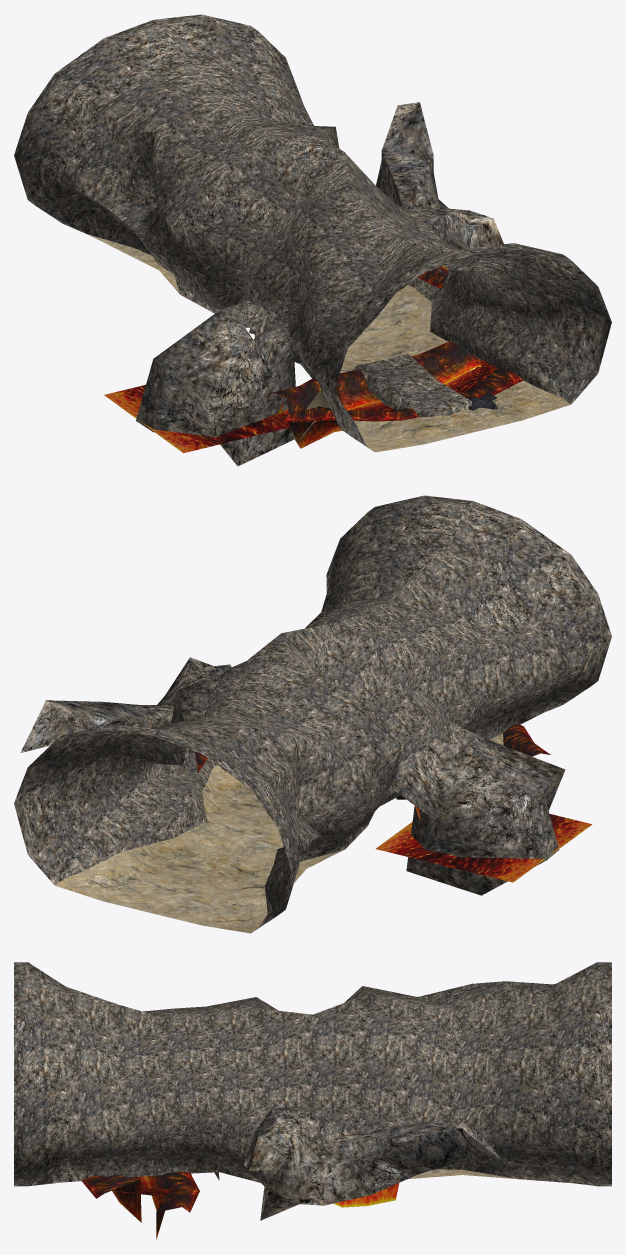
File: pir_m_are_cav_hallWide200_lava.fbx
3 renders of one model, top to bottom at view 1: azimuth 30°, elevation 25°; view 2: azimuth 150°, elevation 25°; view 3: azimuth 270°, elevation 25°, orthographic. The views are drawn at different scales.
Visible parts, largest first — view 1: hallWide200_wall, hallWide200_floor, rock_bridge, lava2, lava5, lava_hot_0, lava_hot_1; view 2: hallWide200_wall, hallWide200_floor, lava_hot_0, lava5; view 3: hallWide200_wall, lava2, lava5, lava8, hallWide200_floor.
Boxes of the visible parts, left/top/right/bottom form: hallWide200_wall: left=14, top=14, right=611, bottom=466; hallWide200_floor: left=87, top=234, right=570, bottom=452; rock_bridge: left=354, top=354, right=471, bottom=417; lava2: left=266, top=341, right=481, bottom=432; lava5: left=278, top=365, right=523, bottom=448; lava_hot_0: left=104, top=384, right=290, bottom=453; lava_hot_1: left=301, top=360, right=497, bottom=448; hallWide200_wall: left=14, top=495, right=611, bottom=930; hallWide200_floor: left=55, top=733, right=503, bottom=933; lava_hot_0: left=375, top=814, right=592, bottom=882; lava5: left=503, top=724, right=550, bottom=756; hallWide200_wall: left=14, top=962, right=611, bottom=1220; lava2: left=147, top=1171, right=199, bottom=1239; lava5: left=81, top=1174, right=141, bottom=1222; lava8: left=334, top=1183, right=399, bottom=1207; hallWide200_floor: left=408, top=1169, right=515, bottom=1178.
Bounding box in the file's own units: 14233 × 8890 × 20000.
5 materials, 5 textured.
